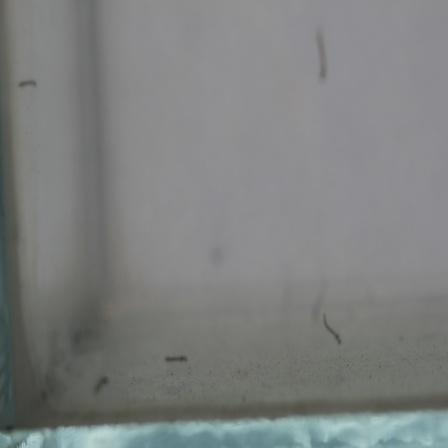Jentik-Nyamuk: (323, 314, 341, 346), (161, 350, 192, 366)
